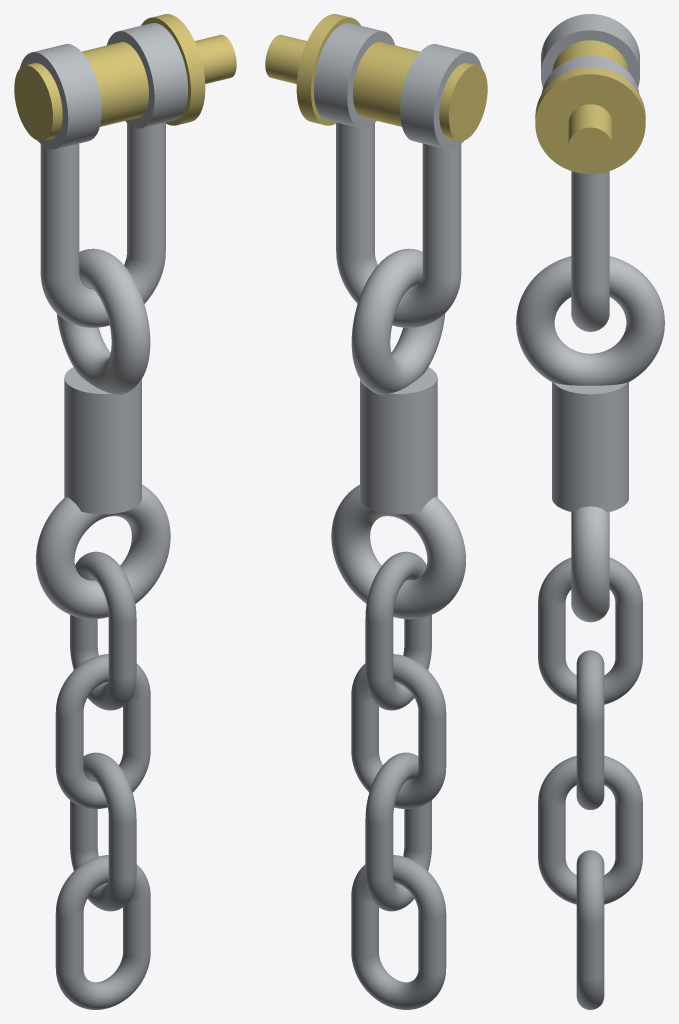
File: esp2024_sa6_mooring.glb
3 renders of one model, left to right at view 1: azimuth 30°, elevation 25°; view 2: azimuth 150°, elevation 25°; view 3: azimuth 270°, elevation 25°, orthographic.
Visible parts, largest first — view 1: swivel, bow shackle, load pin, chain link 4, chain link 2, chain link 3, chain link 1; view 2: swivel, bow shackle, load pin, chain link 4, chain link 2, chain link 3, chain link 1; view 3: swivel, load pin, bow shackle, chain link 3, chain link 1, chain link 2, chain link 4.
Part boxes in pixels (x1=…): swivel: x1=36, y1=248, x2=170, y2=619; bow shackle: x1=20, y1=23, x2=188, y2=327; load pin: x1=14, y1=14, x2=236, y2=140; chain link 4: x1=55, y1=855, x2=150, y2=1009; chain link 2: x1=55, y1=654, x2=150, y2=808; chain link 3: x1=70, y1=752, x2=136, y2=911; chain link 1: x1=70, y1=551, x2=136, y2=710; swivel: x1=331, y1=248, x2=465, y2=619; bow shackle: x1=313, y1=23, x2=481, y2=327; load pin: x1=265, y1=14, x2=487, y2=140; chain link 4: x1=351, y1=855, x2=446, y2=1009; chain link 2: x1=351, y1=654, x2=446, y2=808; chain link 3: x1=365, y1=752, x2=431, y2=911; chain link 1: x1=365, y1=551, x2=431, y2=710; swivel: x1=516, y1=256, x2=664, y2=622; load pin: x1=535, y1=40, x2=645, y2=174; bow shackle: x1=541, y1=14, x2=639, y2=331; chain link 3: x1=538, y1=755, x2=642, y2=904; chain link 1: x1=538, y1=557, x2=642, y2=704; chain link 2: x1=576, y1=650, x2=604, y2=809; chain link 4: x1=576, y1=850, x2=604, y2=1009.
Size of the model in its own units: 80 by 387 by 54.
